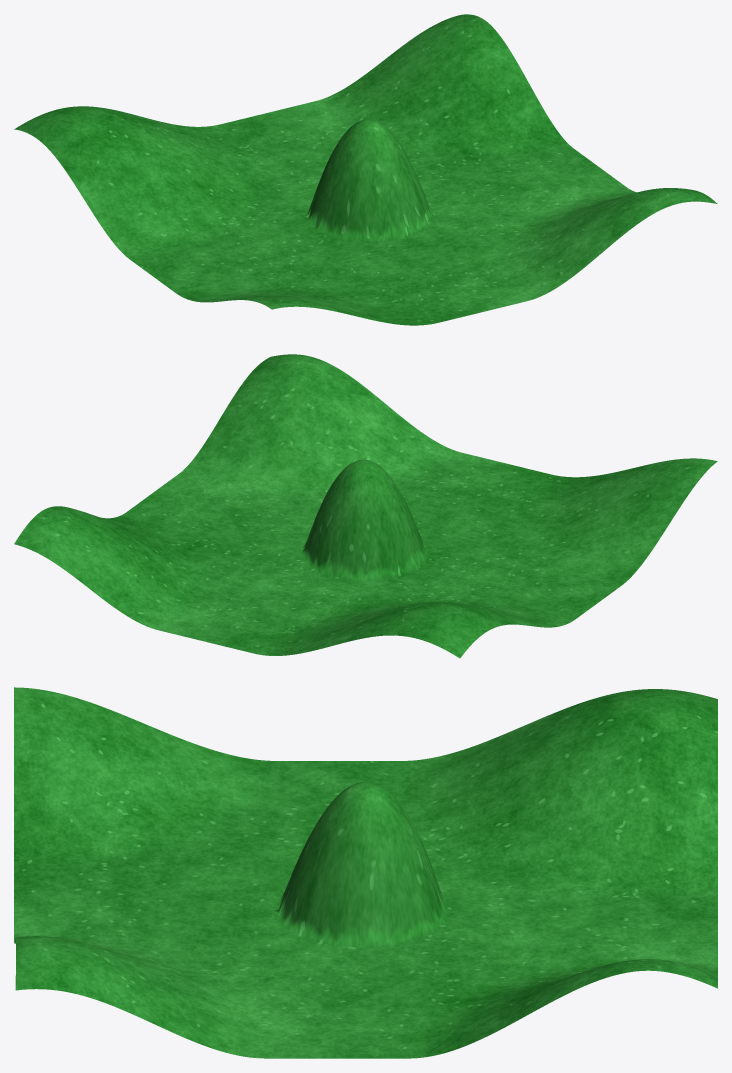
File: titleground.obj
3 views of the same model, one above another, from view 1: azimuth 30°, elevation 25°; view 2: azimuth 150°, elevation 25°; view 3: azimuth 270°, elevation 25° (orthographic). The views are drawn at different scales.
Visible parts, largest first — view 1: 平面; view 2: 平面; view 3: 平面.
Boxes of the visible parts, x1,y1,x2,y2 form: 平面: (14, 14, 717, 325); 平面: (14, 354, 717, 658); 平面: (14, 687, 717, 1058).
Size of the model in its own units: 100 by 19.94 by 100.
Materials: 1 (1 with a texture image).
